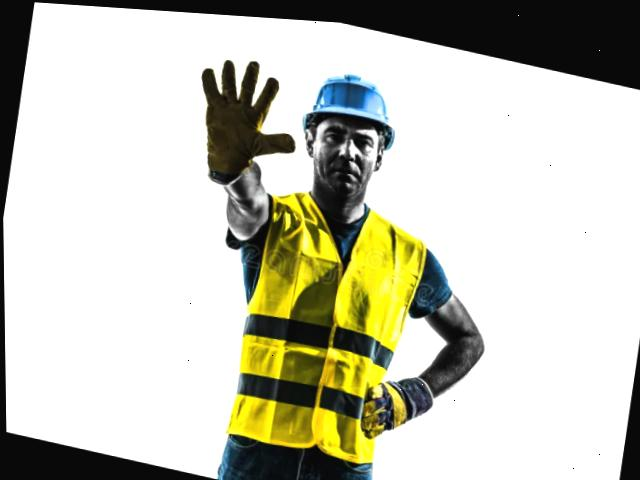helmet: (300, 56, 401, 144)
vest: (234, 178, 416, 460)
